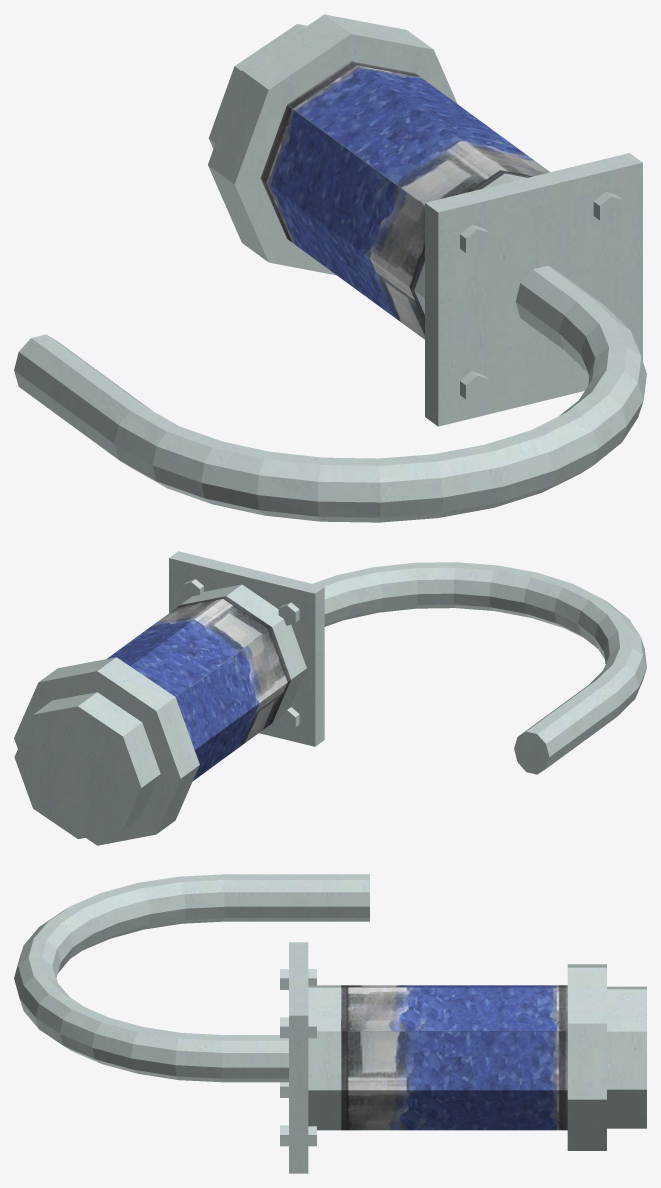
The model's file is hxq-geode.glb.
The picture shows the model from 3 angles, top to bottom: view 1: azimuth 30°, elevation 25°; view 2: azimuth 150°, elevation 25°; view 3: azimuth 270°, elevation 25°; orthographic projection. The views are drawn at different scales.
Visible parts, largest first — view 1: Node; view 2: Node; view 3: Node.
Boxes of the visible parts, x1,y1,x2,y2 form: Node: (14,14,646,522); Node: (14,551,646,845); Node: (14,874,646,1173).
Bounding box in the file's own units: 0.2581 × 0.1024 × 0.3265.
Materials: 2 (2 with a texture image).
